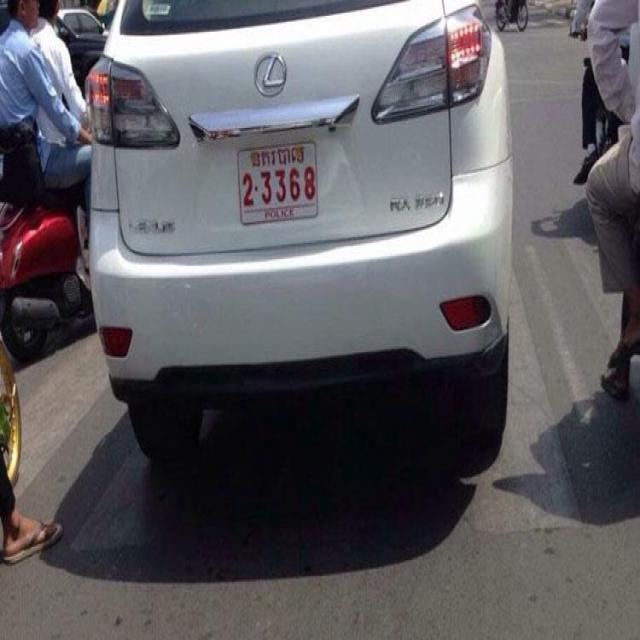Police: (251, 147, 305, 167)
